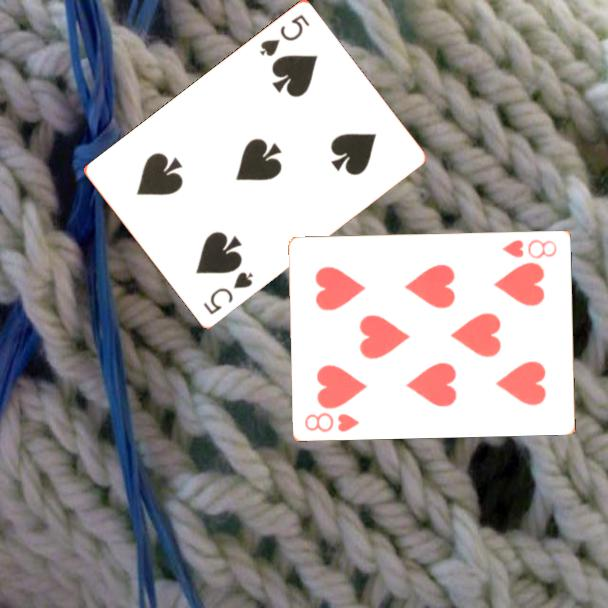h08: (499, 235, 560, 262), (302, 409, 362, 434)
s05: (200, 268, 256, 318), (256, 11, 313, 60)
